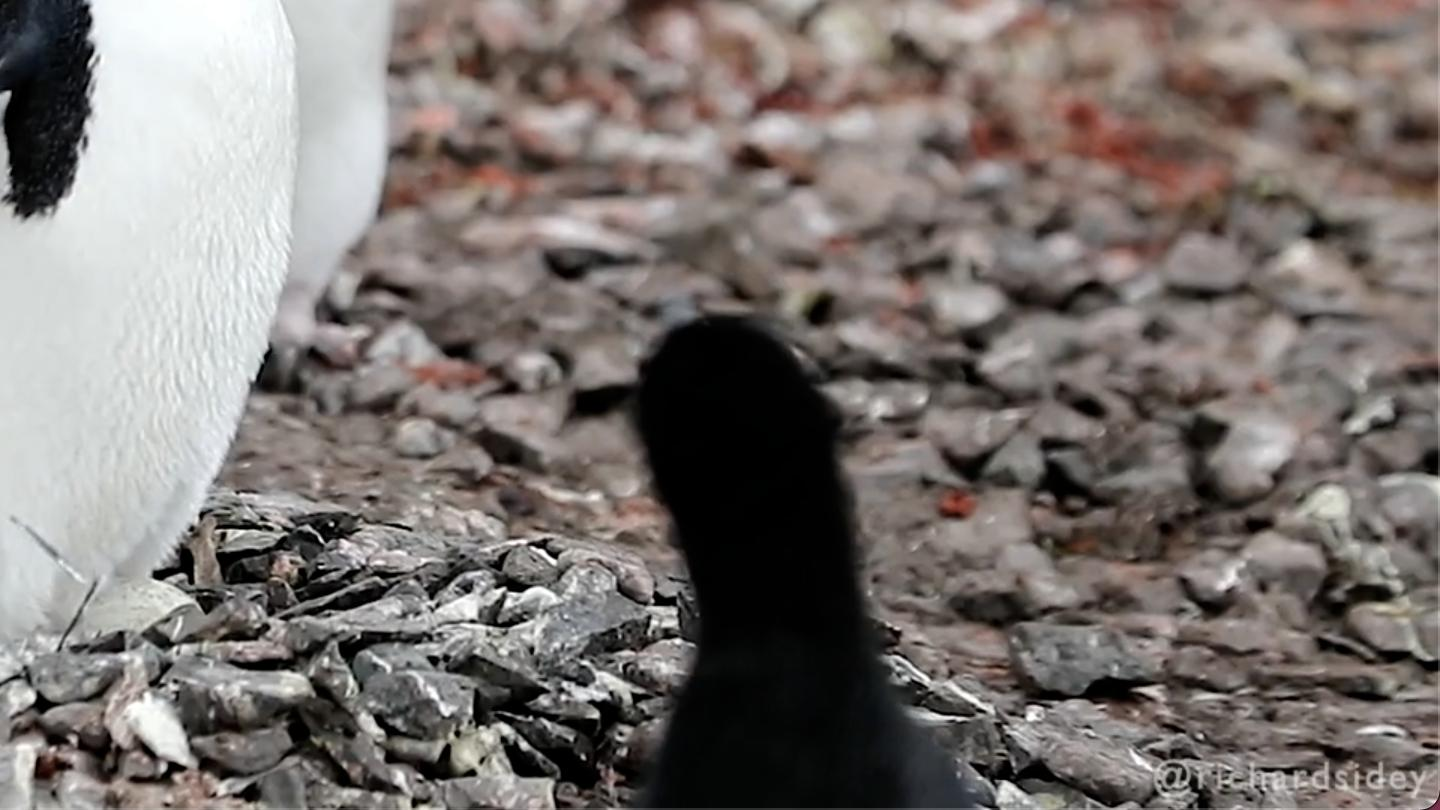Chinstrap Penguin: (0, 0, 297, 690), (133, 0, 523, 400)
